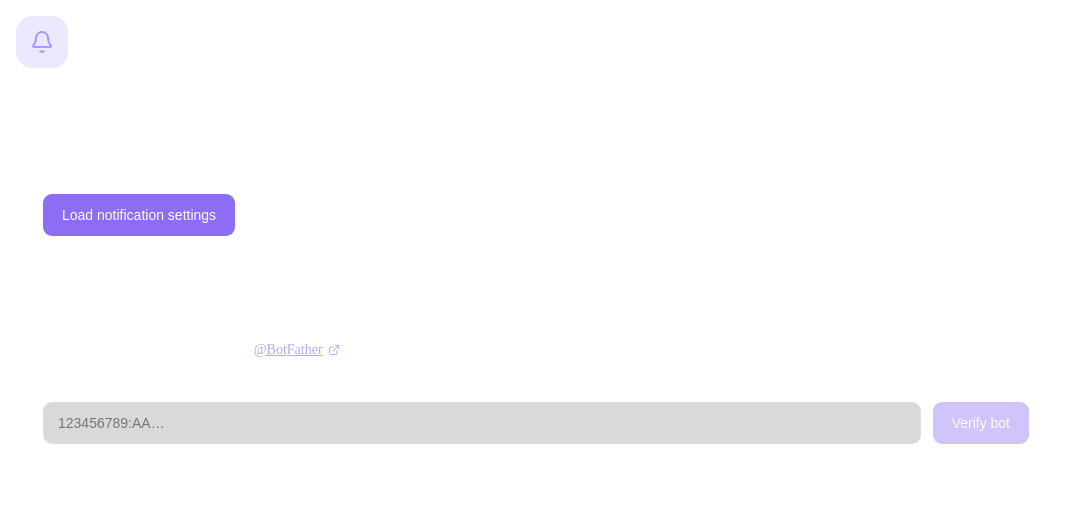
Test: Portfolio Telegram notifications › refuses to sign a notification key with trading permissions
Click the button "Load notification settings" at coordinates (139, 215), box x1=43 y1=194 x2=235 y2=236
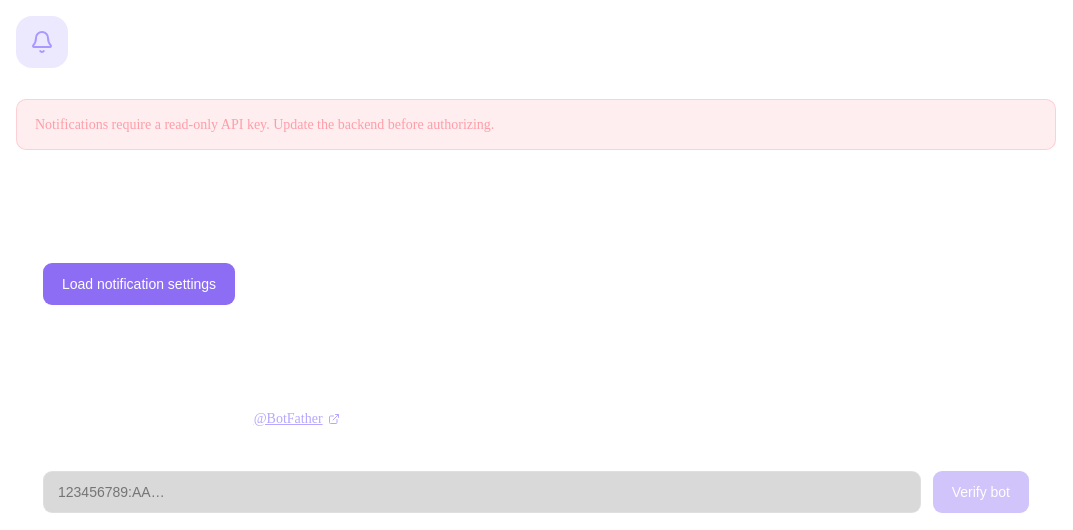
Check: the text "require a read-only API key" is shown, box x1=35 y1=117 x2=494 y2=132
